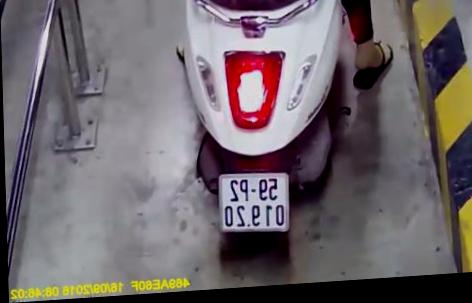License_Plate: (210, 168, 296, 240)
